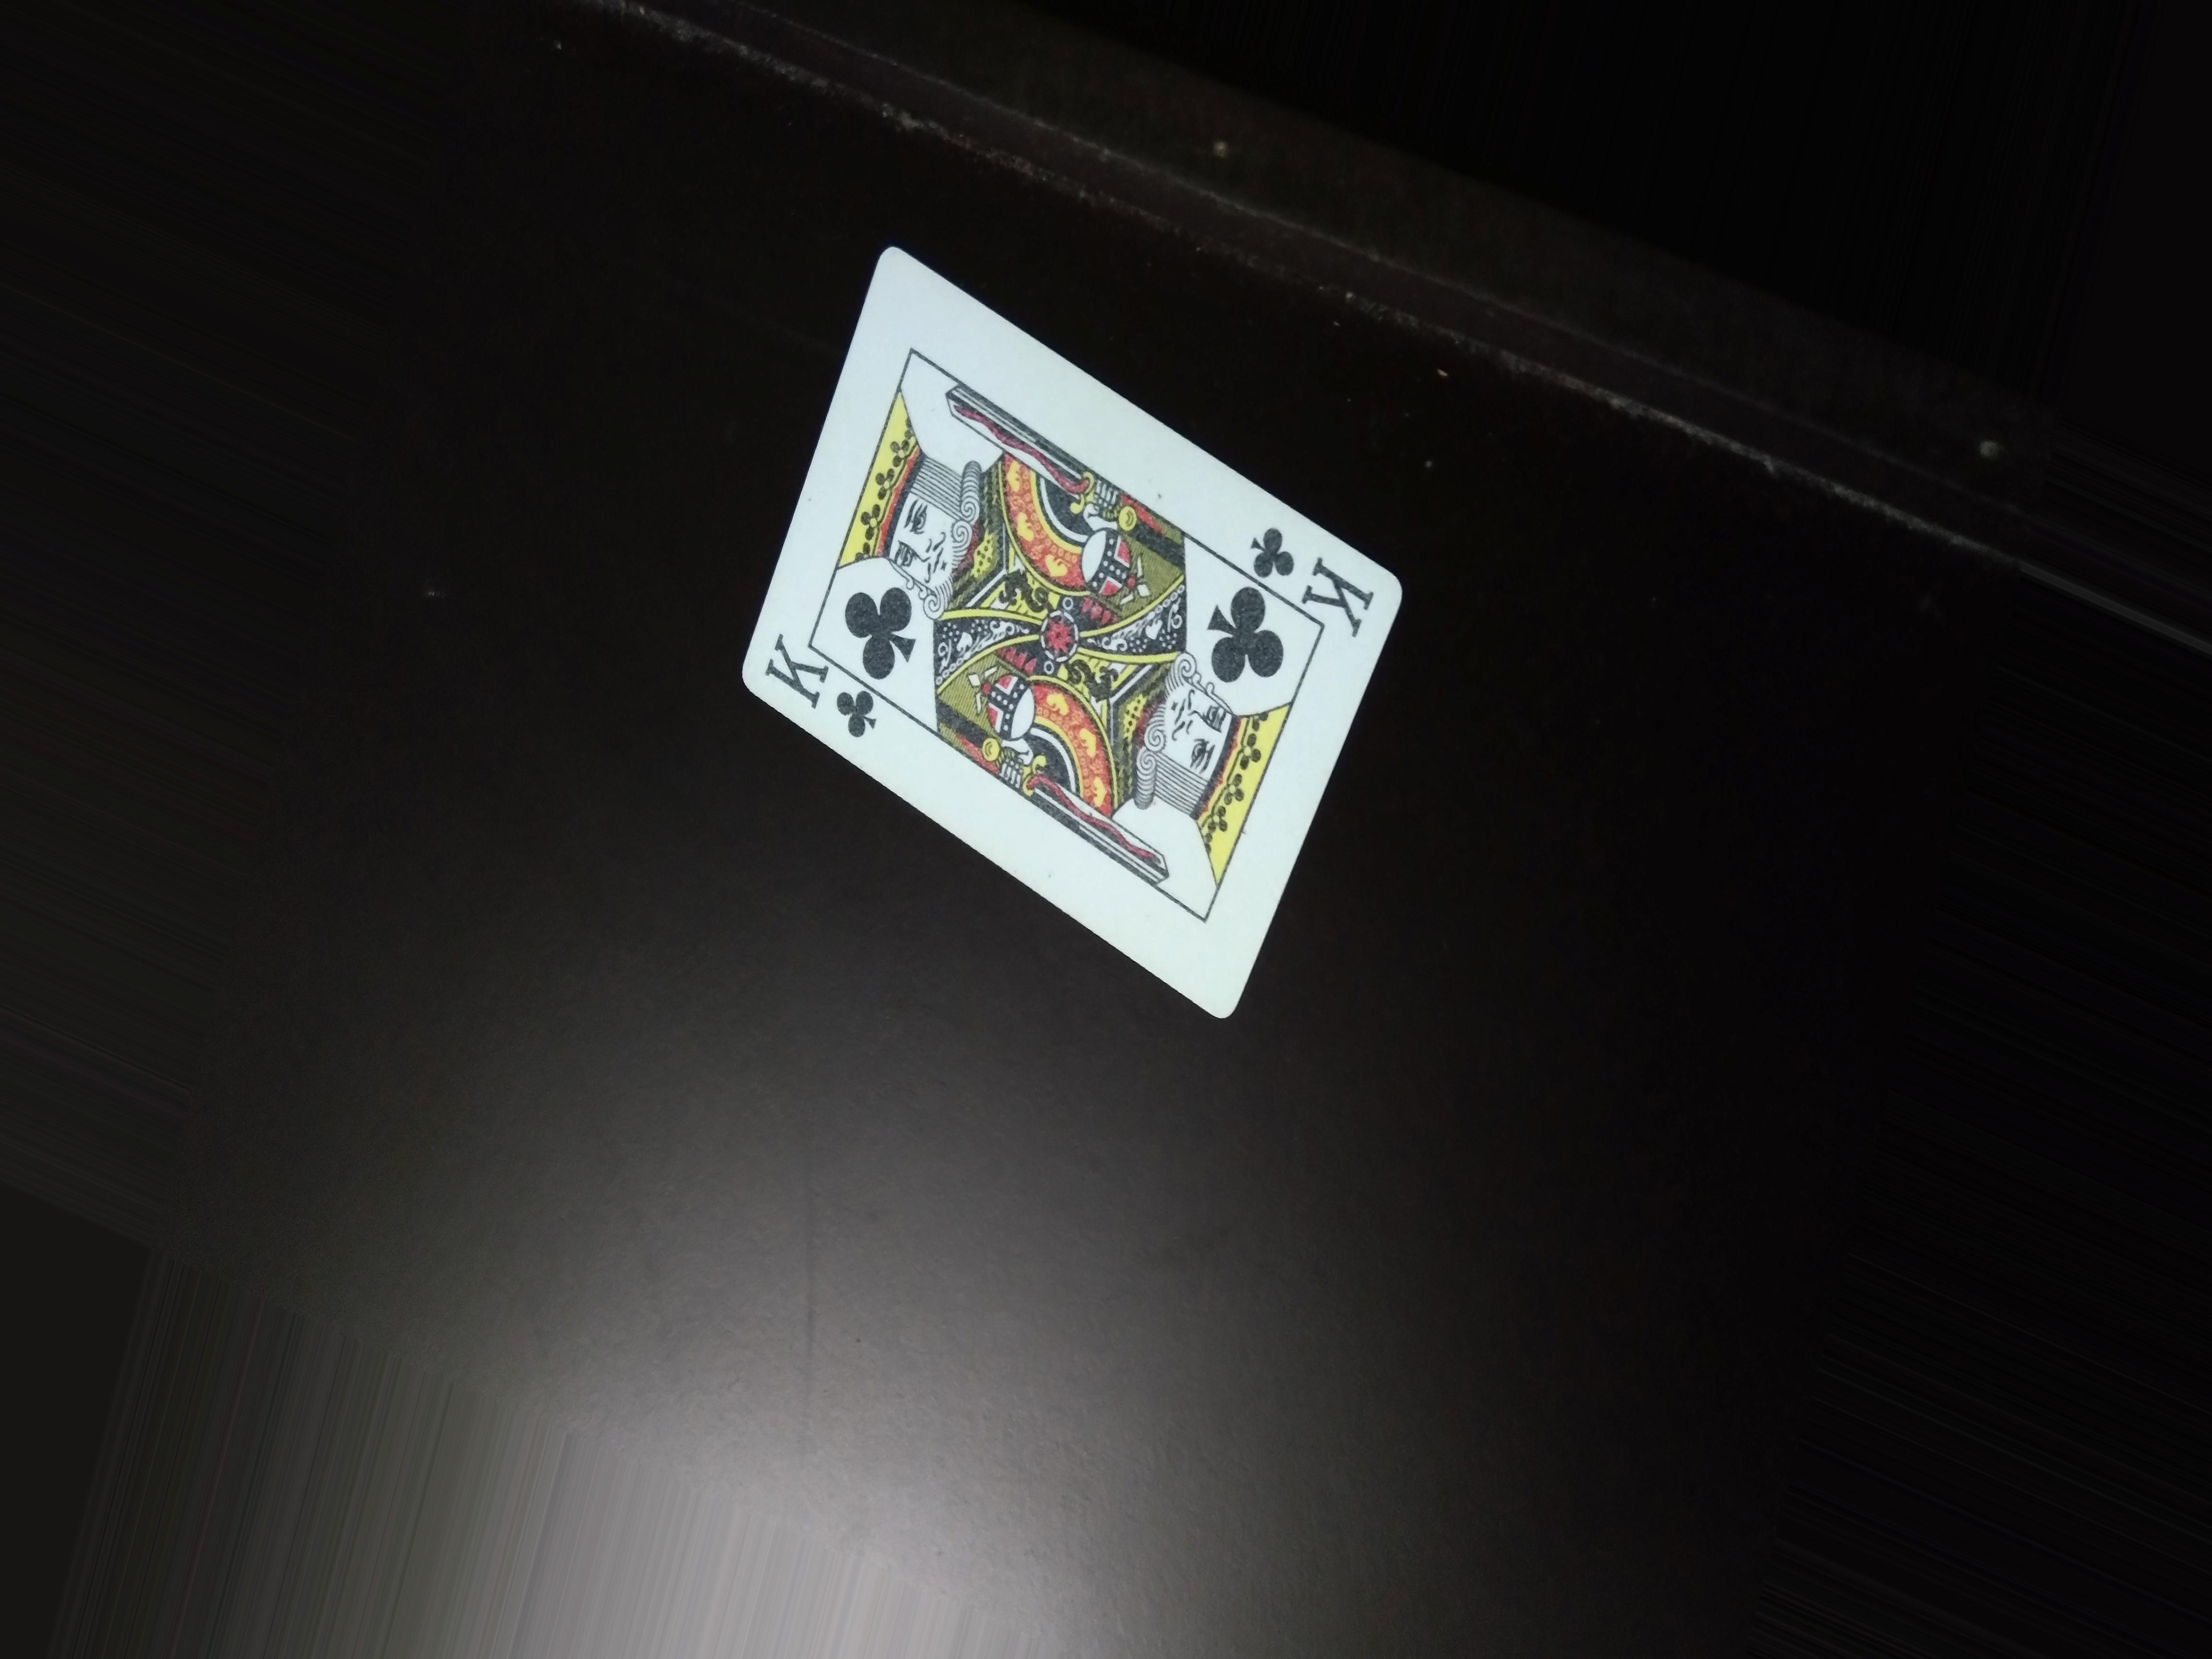KC: (1230, 535, 1397, 615)
